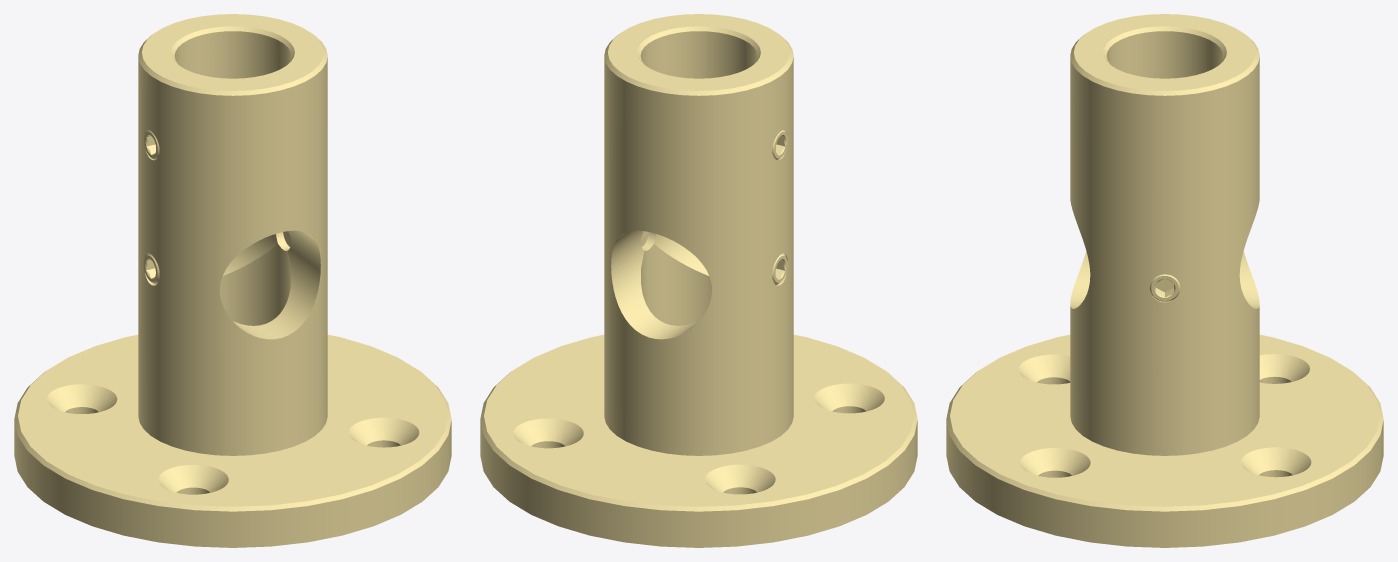
The model's file is Type16F v1.glb.
3 views of the same model, side by side, from view 1: azimuth 30°, elevation 25°; view 2: azimuth 150°, elevation 25°; view 3: azimuth 270°, elevation 25° (orthographic).
Visible parts, largest first — view 1: Type16F v1; view 2: Type16F v1; view 3: Type16F v1.
Part boxes in pixels (<box>): Type16F v1: <box>14,14,451,547</box>; Type16F v1: <box>480,14,917,547</box>; Type16F v1: <box>946,14,1383,547</box>.
Bounding box in the file's own units: 0.06 × 0.061 × 0.06.
Materials: 1 (1 with a texture image).
